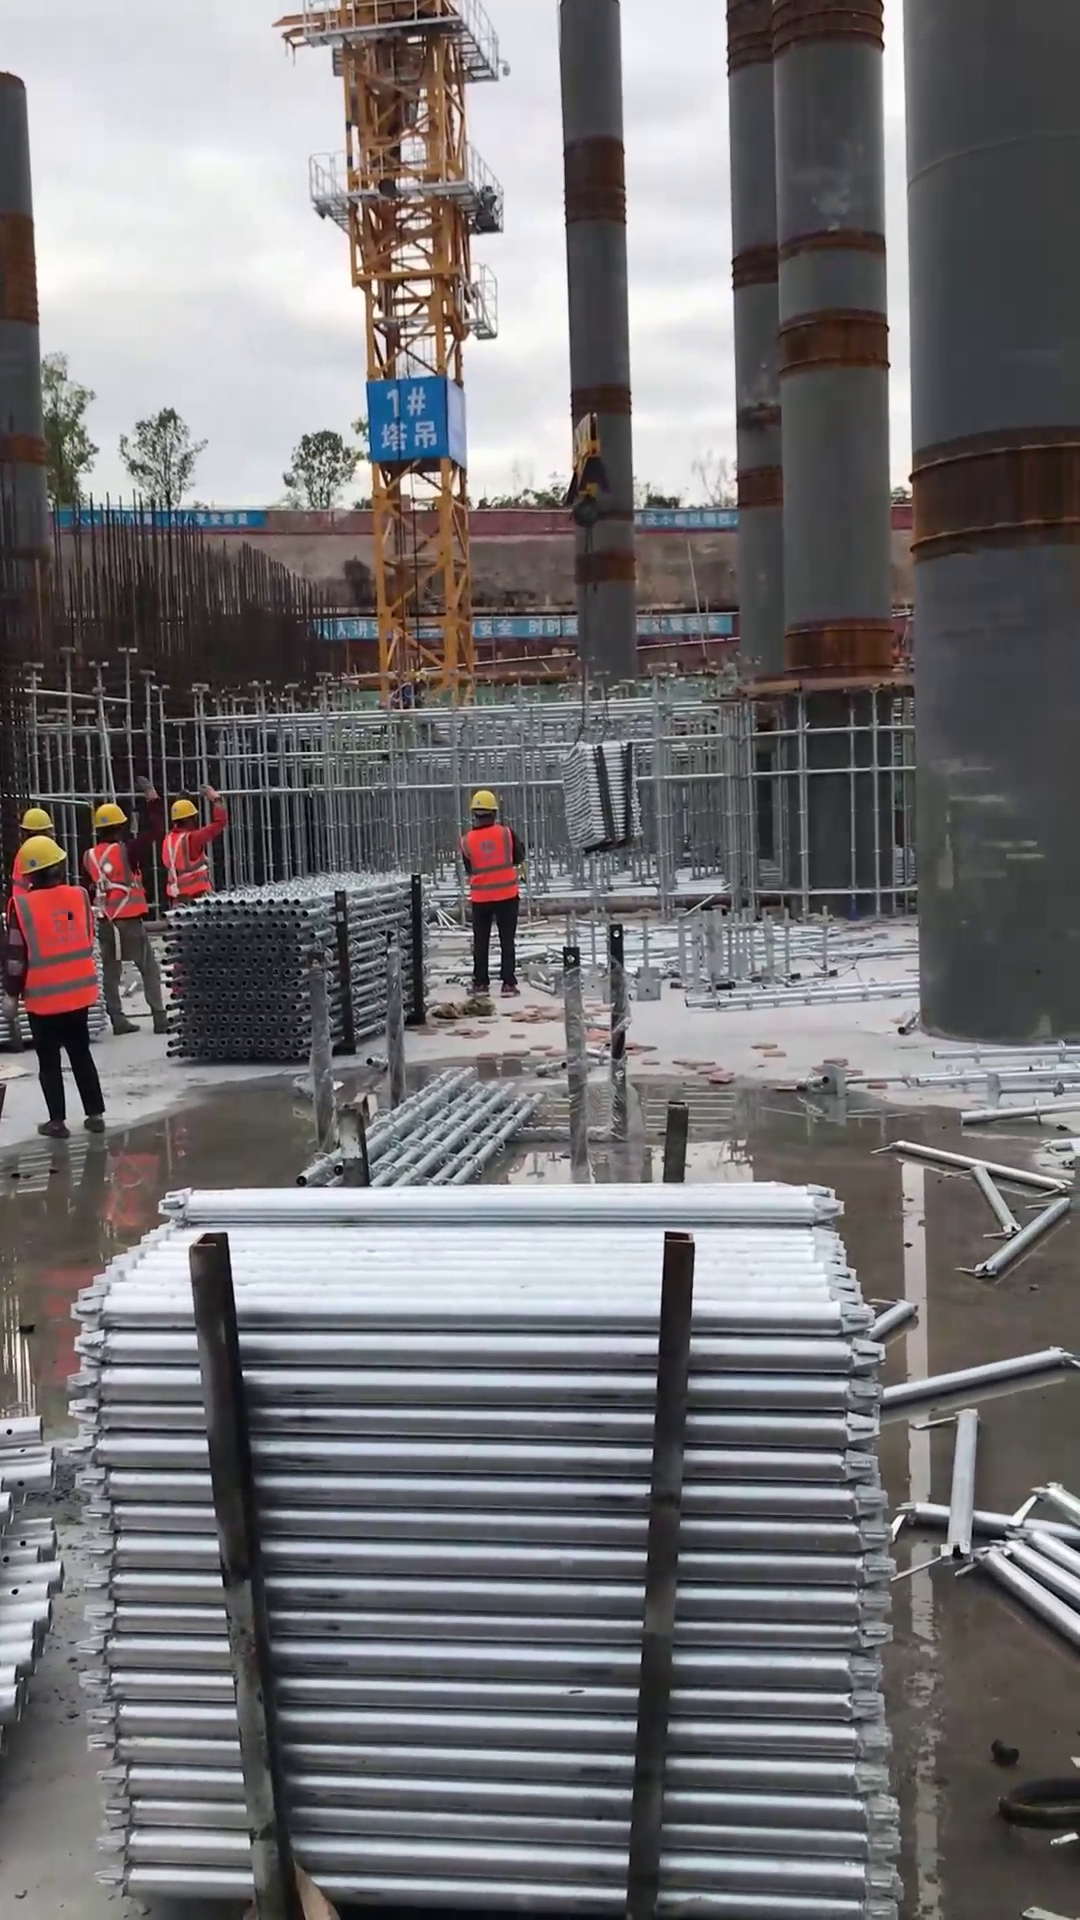helmet: (14, 838, 69, 877), (86, 799, 134, 835), (462, 783, 504, 818), (19, 805, 59, 838), (160, 794, 200, 824)
hook: (552, 403, 640, 539)
person: (9, 837, 117, 1143), (76, 788, 179, 1040), (450, 779, 533, 1016), (149, 777, 233, 920), (1, 800, 64, 926)
scaffold: (92, 1165, 916, 1920), (168, 853, 440, 1087)
slogan: (58, 504, 270, 538), (636, 509, 748, 537), (633, 610, 739, 640), (467, 615, 586, 640)
vest: (11, 887, 101, 1039), (83, 840, 153, 927), (460, 820, 525, 912), (159, 824, 214, 904), (6, 843, 33, 905)
